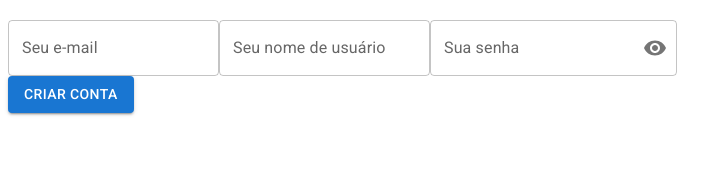
Create Account Form - account validation schema › password › renders inputs error messages when try submit form with password lentgh more big then max accept
The image size is (726, 172).
Type "123456789.123" into the password field labelled "Sua senha".
click(528, 48); type("123456789.123")  # box [430, 20, 627, 76]
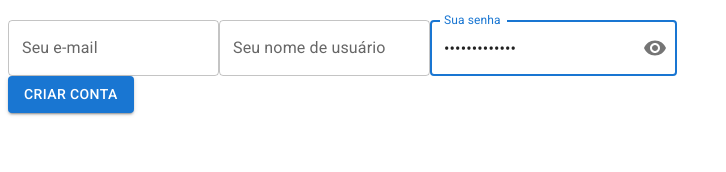
Click the button "Criar conta".
click(71, 94)  # box [8, 76, 134, 112]
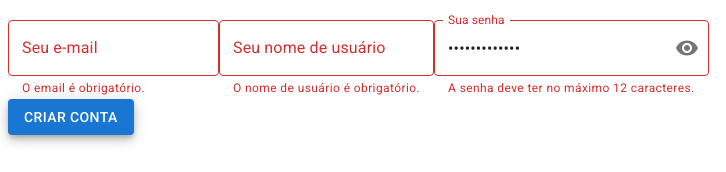
Now the text "A senha deve ter no máximo 12 caracteres." is shown, box [448, 79, 695, 99]
